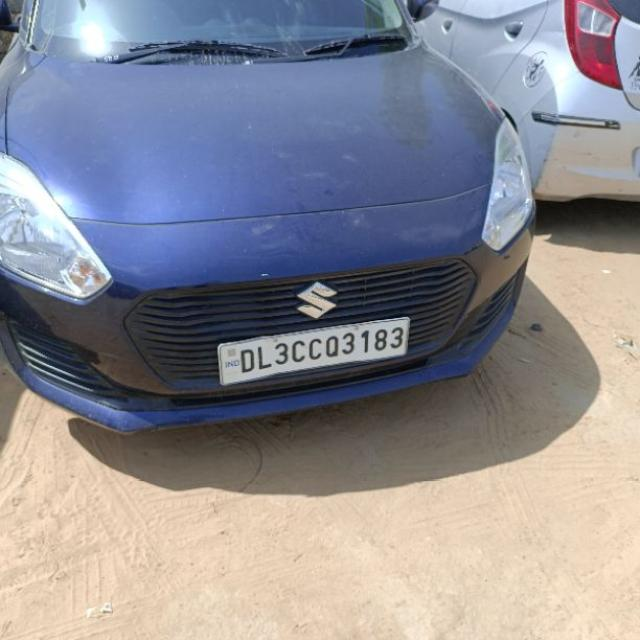license_plate: (215, 315, 410, 386)
